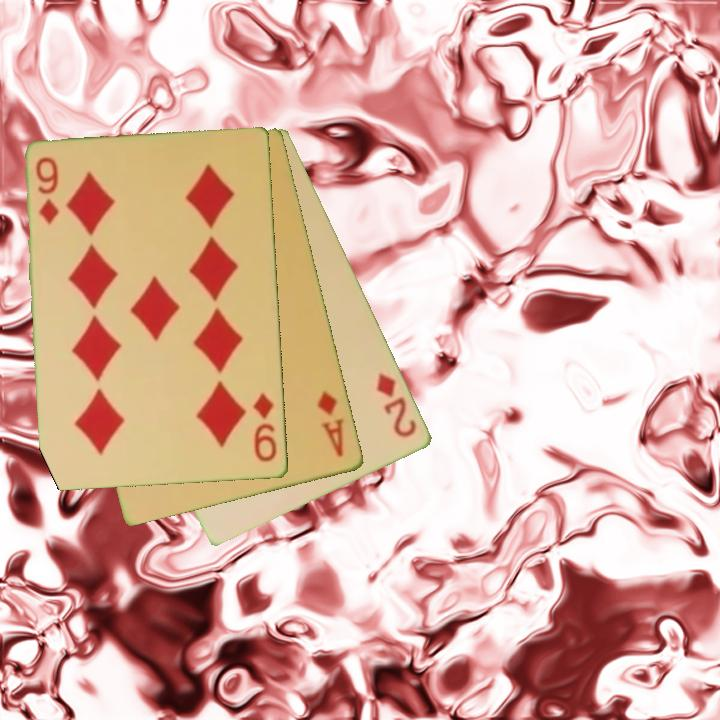2d: (373, 369, 420, 441)
9d: (249, 390, 280, 465), (33, 153, 63, 228)
Ad: (314, 388, 348, 461)
